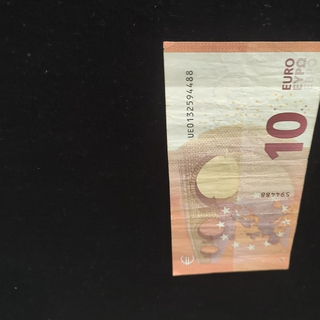10EUROBack: (162, 39, 320, 276)
